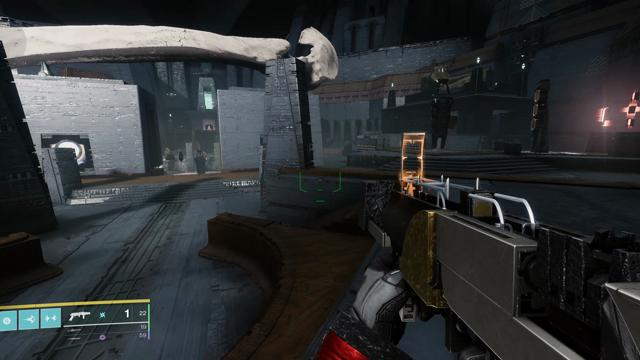traveler: (49, 139, 86, 166)
